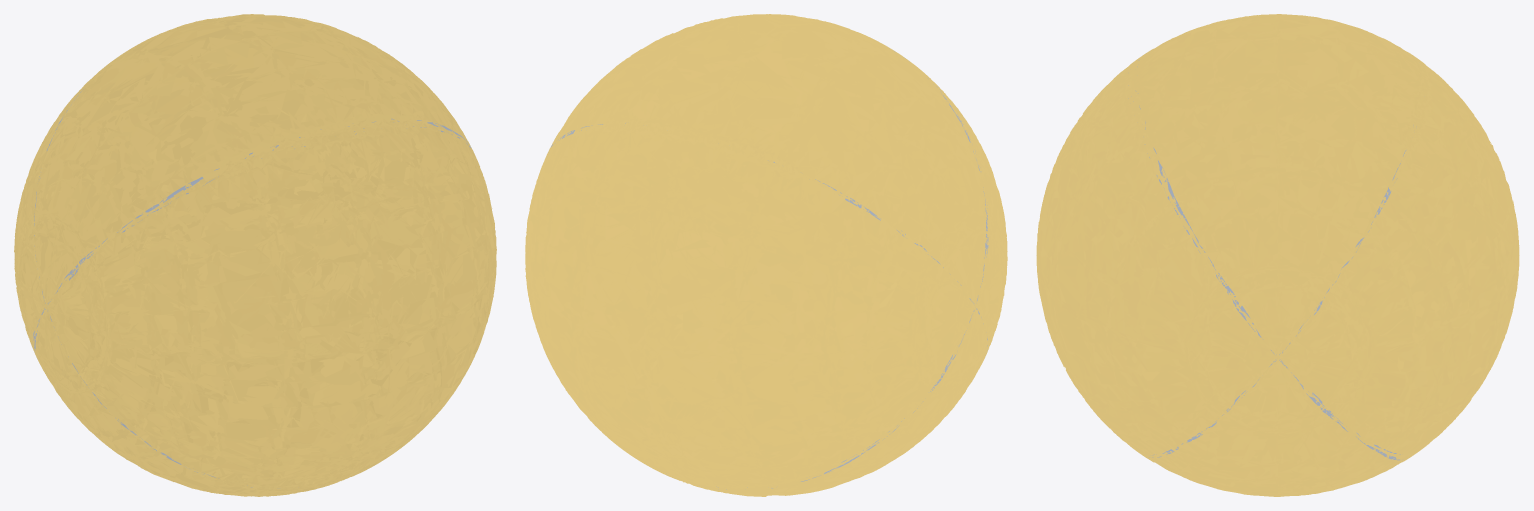
File: dg-north-B.glb
The picture shows the model from 3 angles, left to right: view 1: azimuth 30°, elevation 25°; view 2: azimuth 150°, elevation 25°; view 3: azimuth 270°, elevation 25°; orthographic projection.
Visible parts, largest first — view 1: anodes, structure; view 2: anodes, structure; view 3: anodes, structure.
Boxes of the visible parts, x1,y1,x2,y2 form: anodes: [14, 14, 496, 496]; structure: [33, 89, 470, 487]; anodes: [525, 14, 1007, 496]; structure: [551, 51, 988, 489]; anodes: [1036, 14, 1519, 496]; structure: [1128, 60, 1416, 460].
Bounding box in the file's own units: 2 × 2 × 2.
